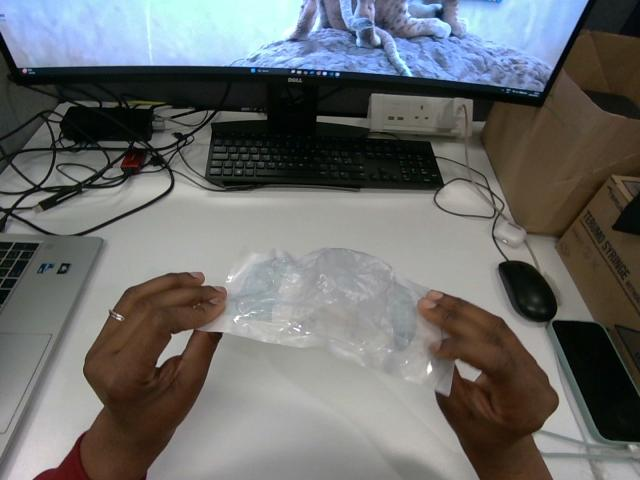gallipot: (202, 248, 452, 394)
